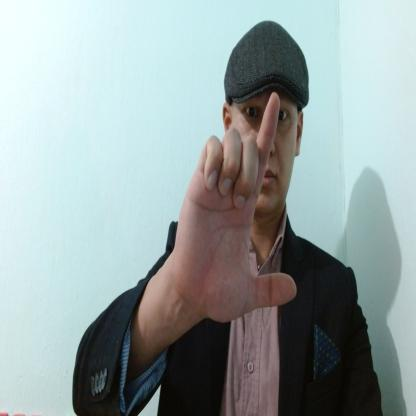L: (176, 94, 298, 323)
